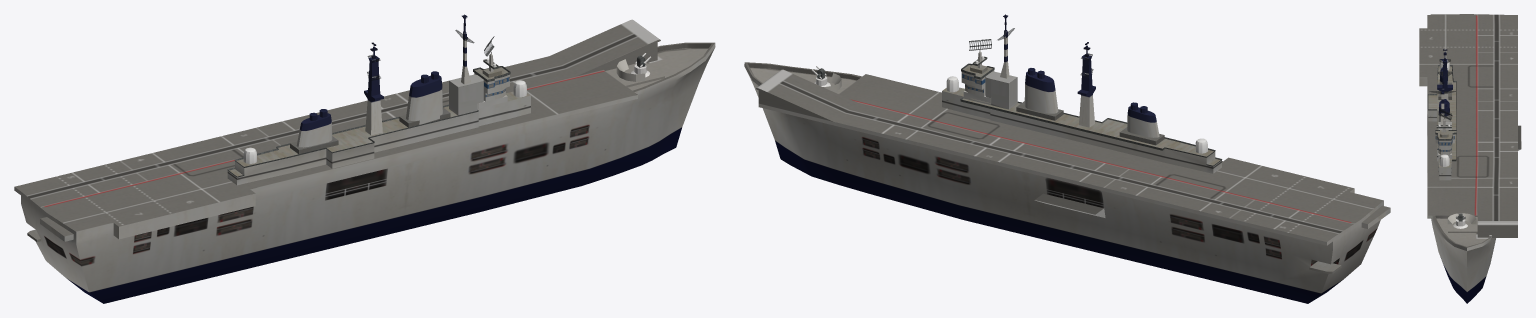
The model's file is low-poly_warship.glb.
3 renders of one model, left to right at view 1: azimuth 30°, elevation 25°; view 2: azimuth 150°, elevation 25°; view 3: azimuth 270°, elevation 25°, orthographic. The views are drawn at different scales.
Visible parts, largest first — view 1: Object_2; view 2: Object_2; view 3: Object_2.
Boxes of the visible parts, <box> form: Object_2: <box>14,14,715,303</box>; Object_2: <box>744,14,1390,303</box>; Object_2: <box>1419,14,1521,303</box>.
Bounding box in the file's own units: 22.98 × 6.54 × 4.1.
Materials: 1 (1 with a texture image).
